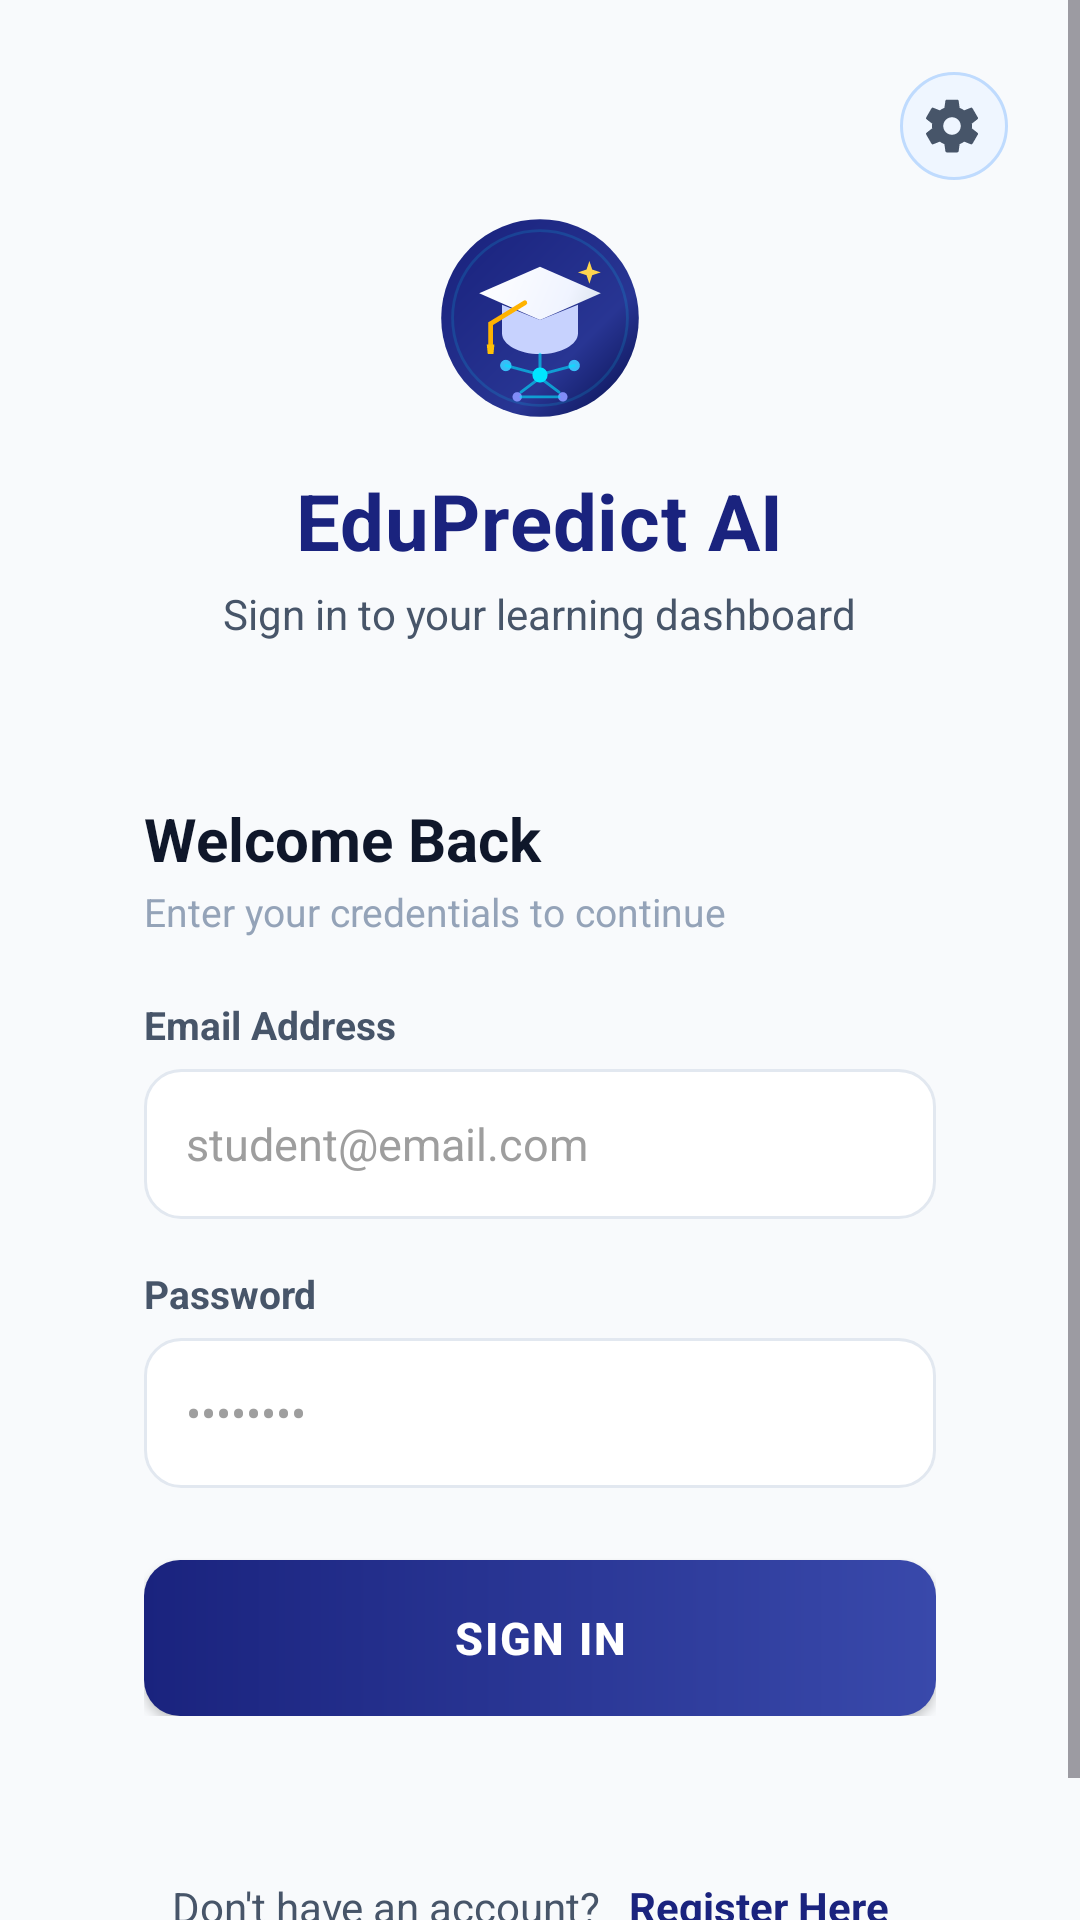

Icons on this 1080*1920 Android screen, each with its box as (x1, y1, x2, y2):
Server Settings: (900, 72, 1008, 180)
